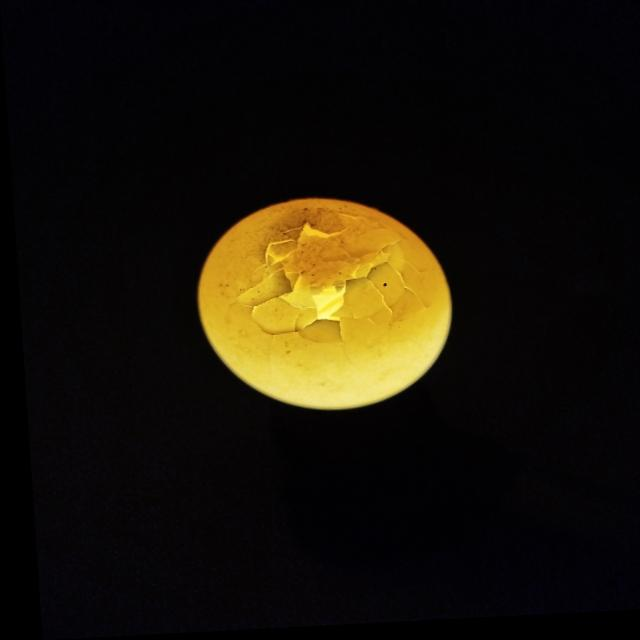Rachadura: (221, 211, 425, 363)
